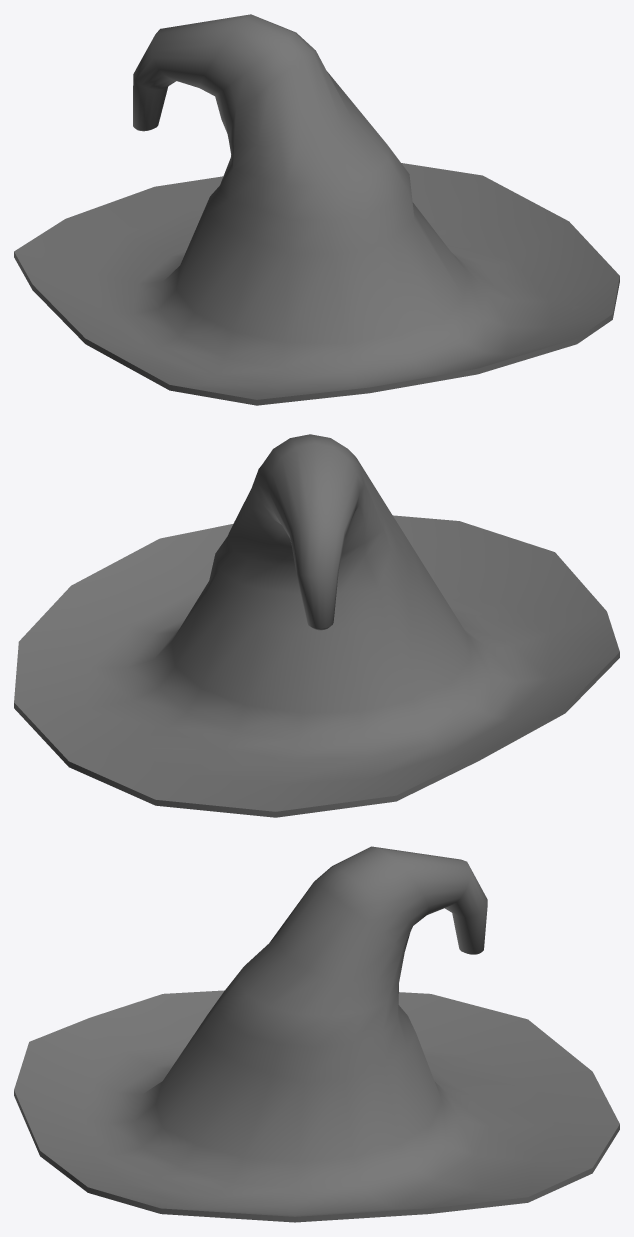
The model's file is wizard.fbx.
The picture shows the model from 3 angles, top to bottom: view 1: azimuth 30°, elevation 25°; view 2: azimuth 150°, elevation 25°; view 3: azimuth 270°, elevation 25°; orthographic projection. The views are drawn at different scales.
Visible parts, largest first — view 1: Circle.006; view 2: Circle.006; view 3: Circle.006.
Part boxes in pixels (x1,y1,x2,y2): Circle.006: [14, 14, 619, 405]; Circle.006: [14, 434, 619, 817]; Circle.006: [14, 846, 619, 1222].
Bounding box in the file's own units: 8.77 × 4.93 × 9.74.
